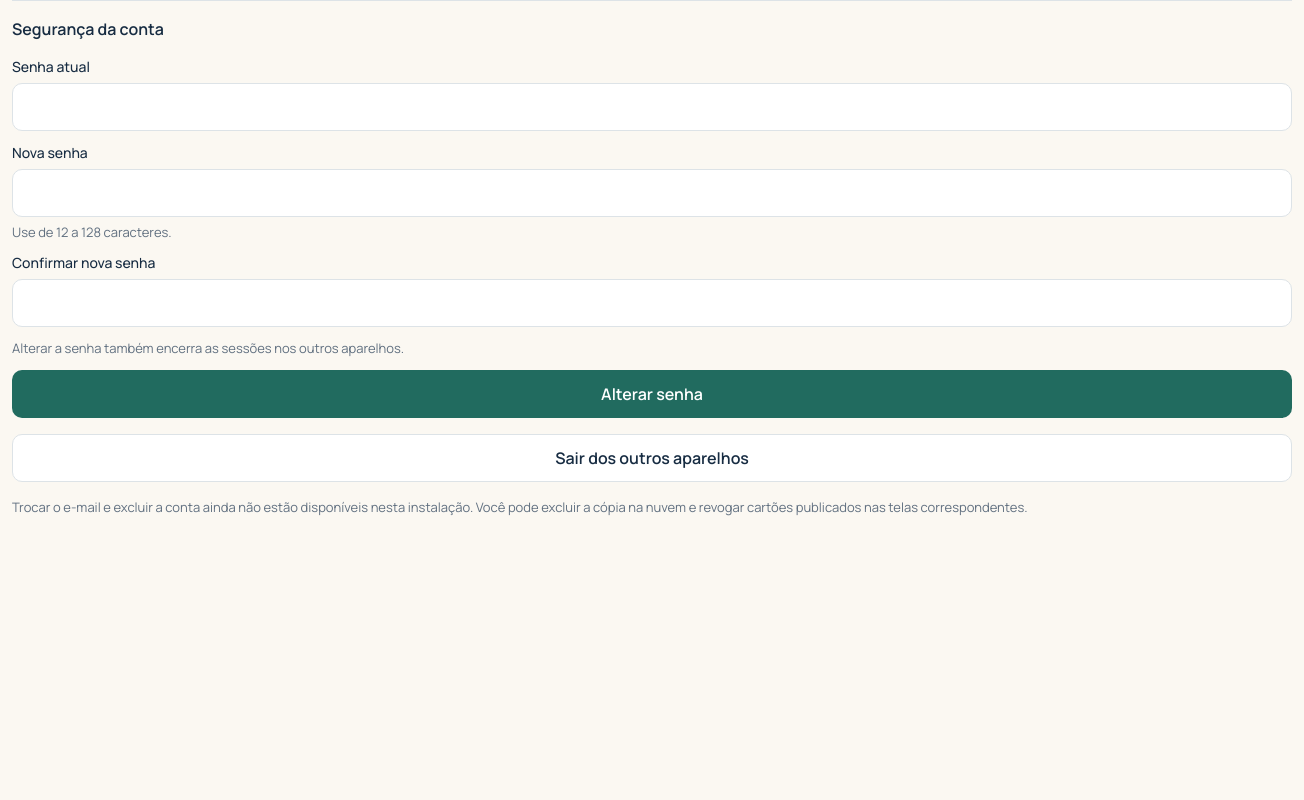
account security › requires matching confirmation before sending a password
Type "current-password" into the password field labelled "Senha atual" at (652, 107), box x1=12 y1=83 x2=1292 y2=131
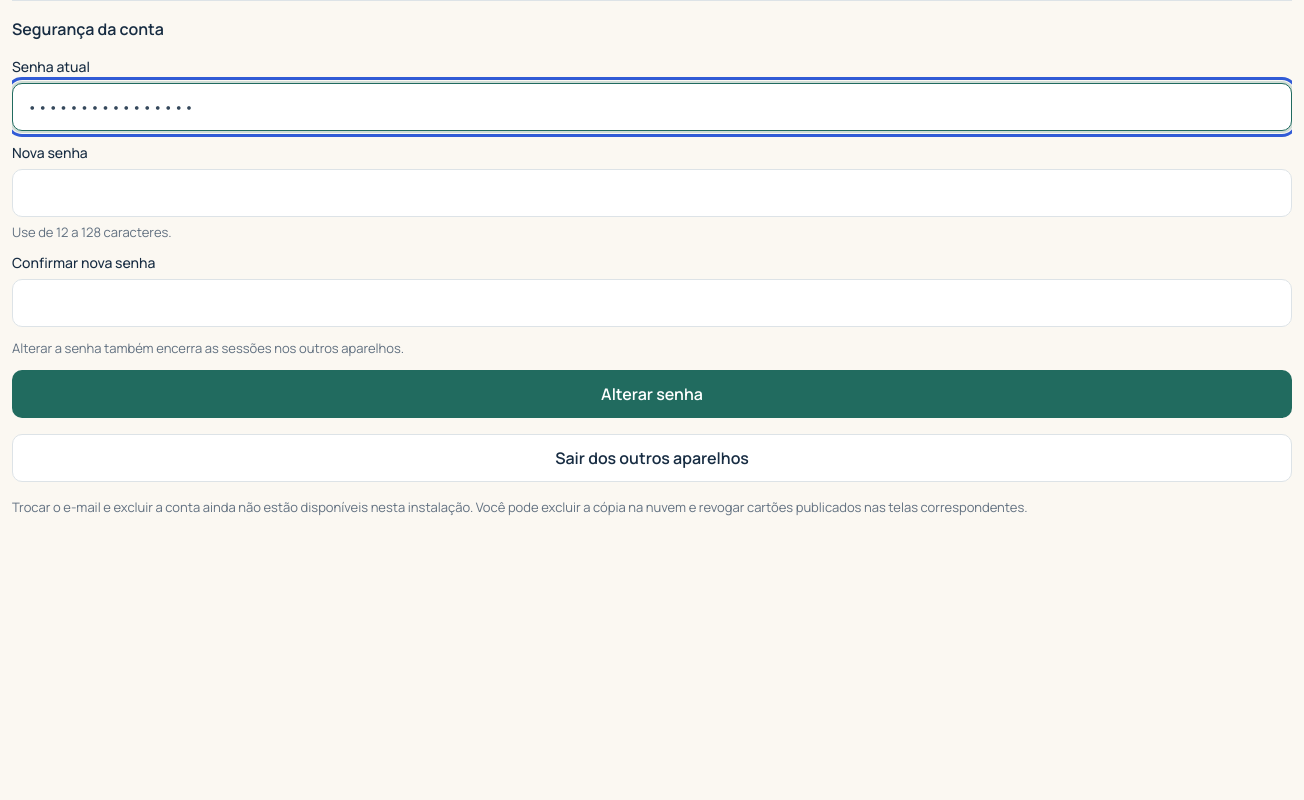
Type "new-password-secure" into the password field labelled "Nova senha" at (652, 193), box x1=12 y1=169 x2=1292 y2=217
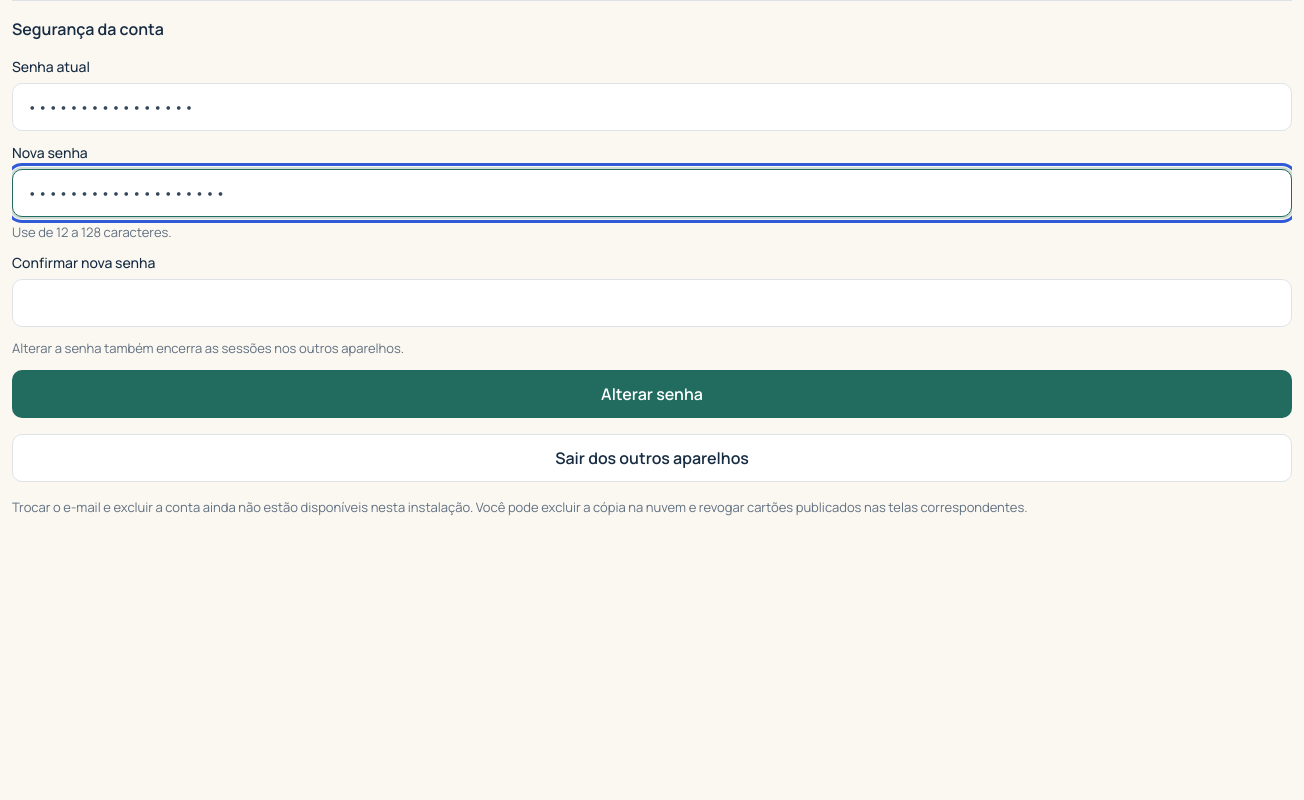
Type "different-password" into the password field labelled "Confirmar nova senha" at (652, 303), box x1=12 y1=279 x2=1292 y2=327
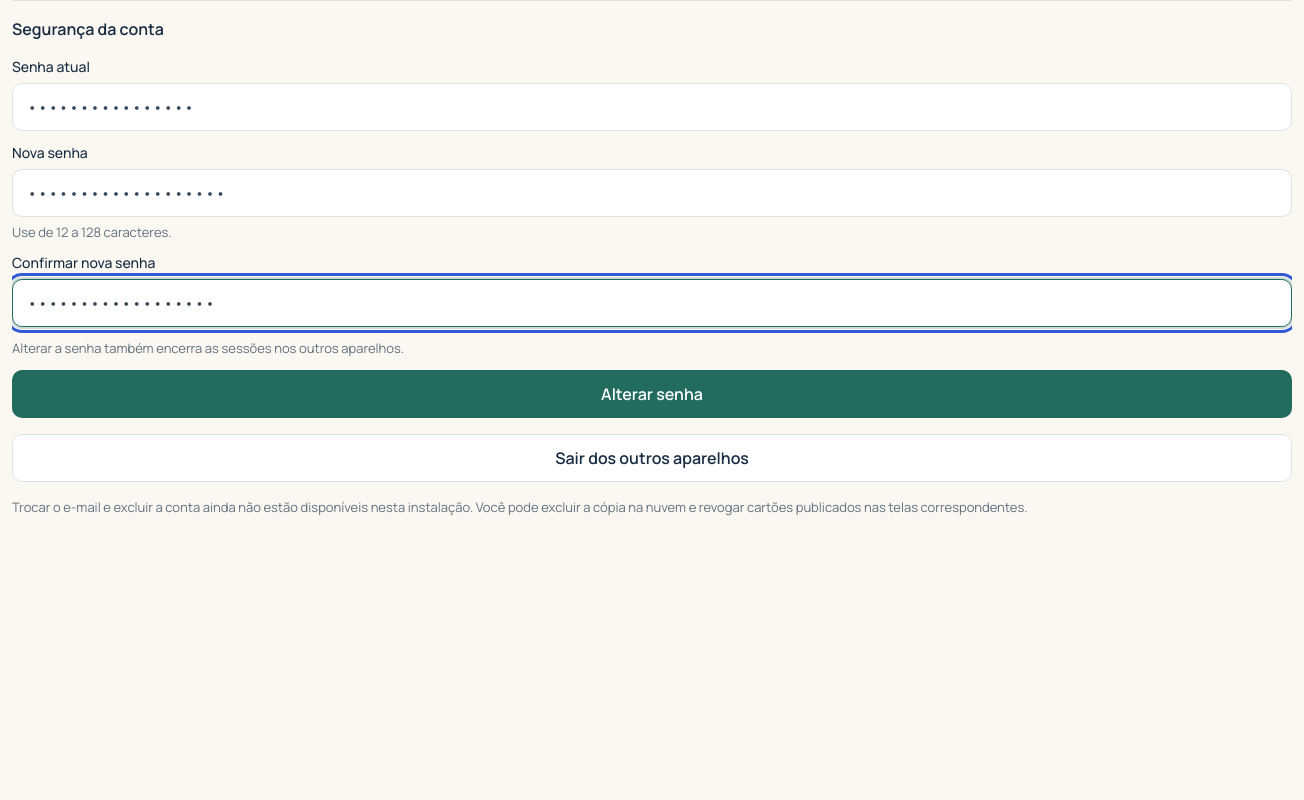
Click the button "Alterar senha" at (652, 394), box x1=12 y1=370 x2=1292 y2=418
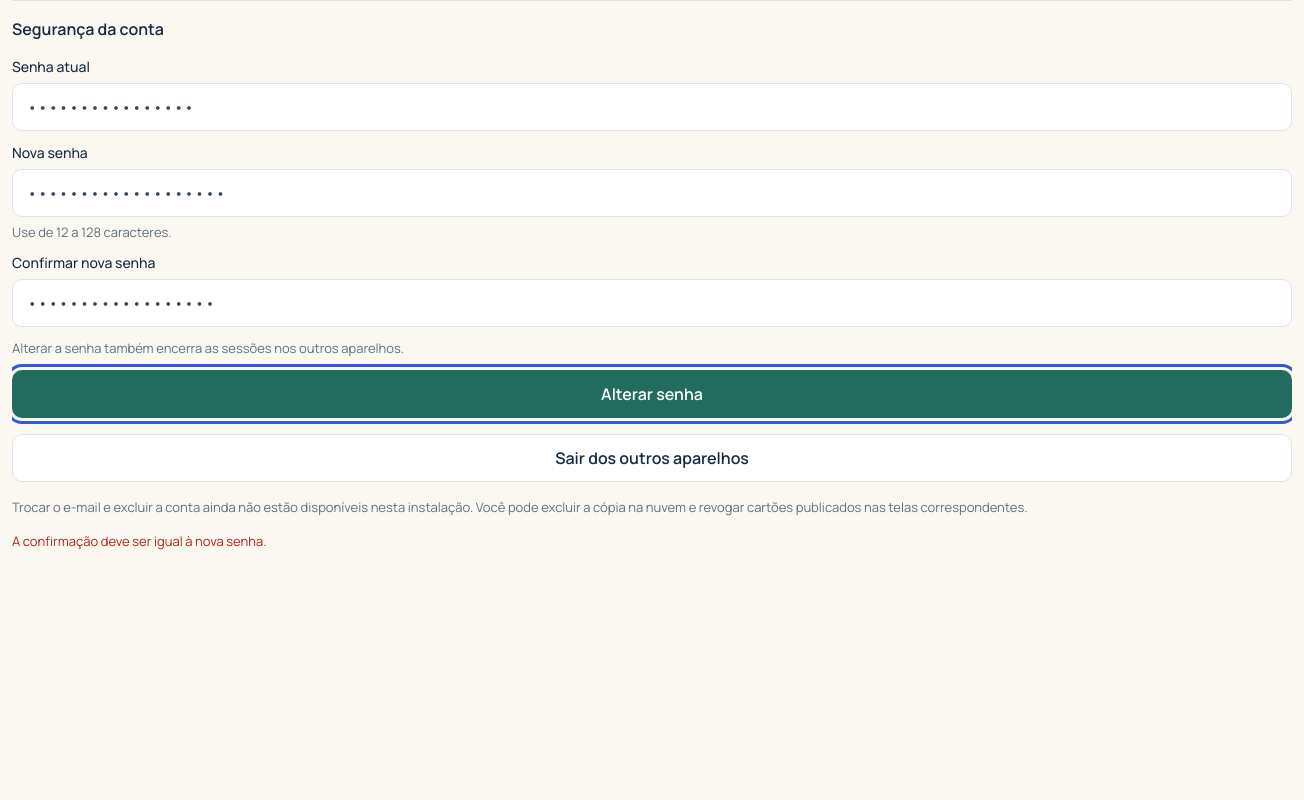
Check: the message shows "confirmação", box x1=12 y1=532 x2=266 y2=550
